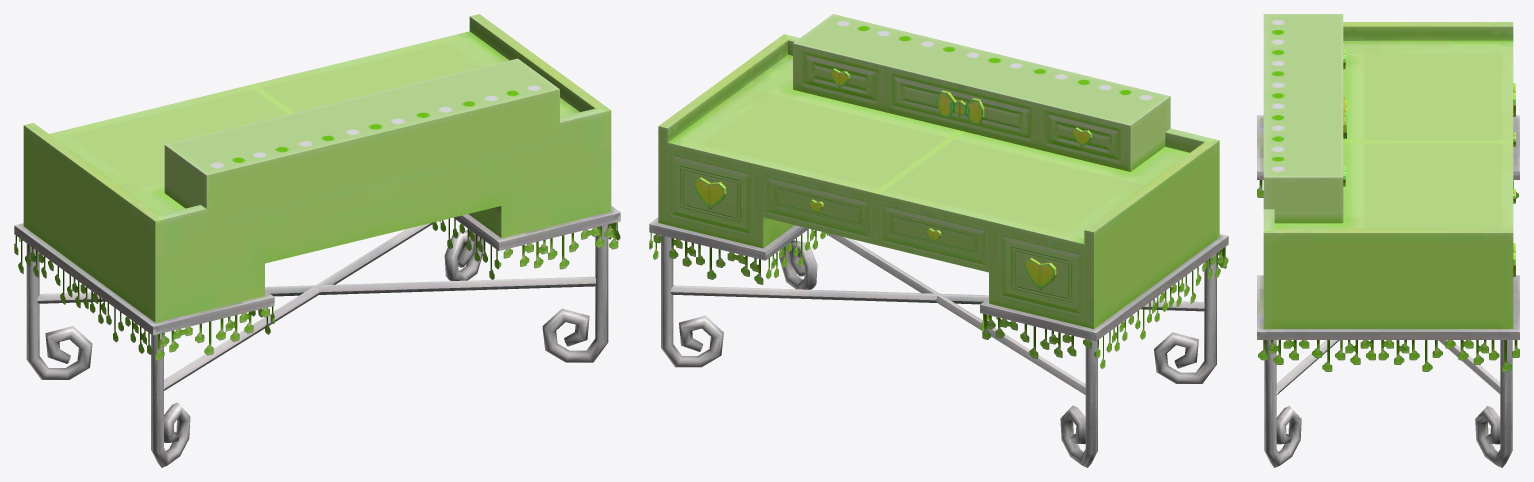
The model's file is furni_0200025-1.FBX.
3 renders of one model, left to right at view 1: azimuth 30°, elevation 25°; view 2: azimuth 150°, elevation 25°; view 3: azimuth 270°, elevation 25°, orthographic. The views are drawn at different scales.
Visible parts, largest first — view 1: furni_0200025-1; view 2: furni_0200025-1; view 3: furni_0200025-1.
Boxes of the visible parts, x1,y1,x2,y2 form: furni_0200025-1: [14, 14, 620, 467]; furni_0200025-1: [649, 14, 1228, 467]; furni_0200025-1: [1257, 14, 1519, 467].
Size of the model in its own units: 164 by 96.29 by 84.24.
Materials: 1 (1 with a texture image).
